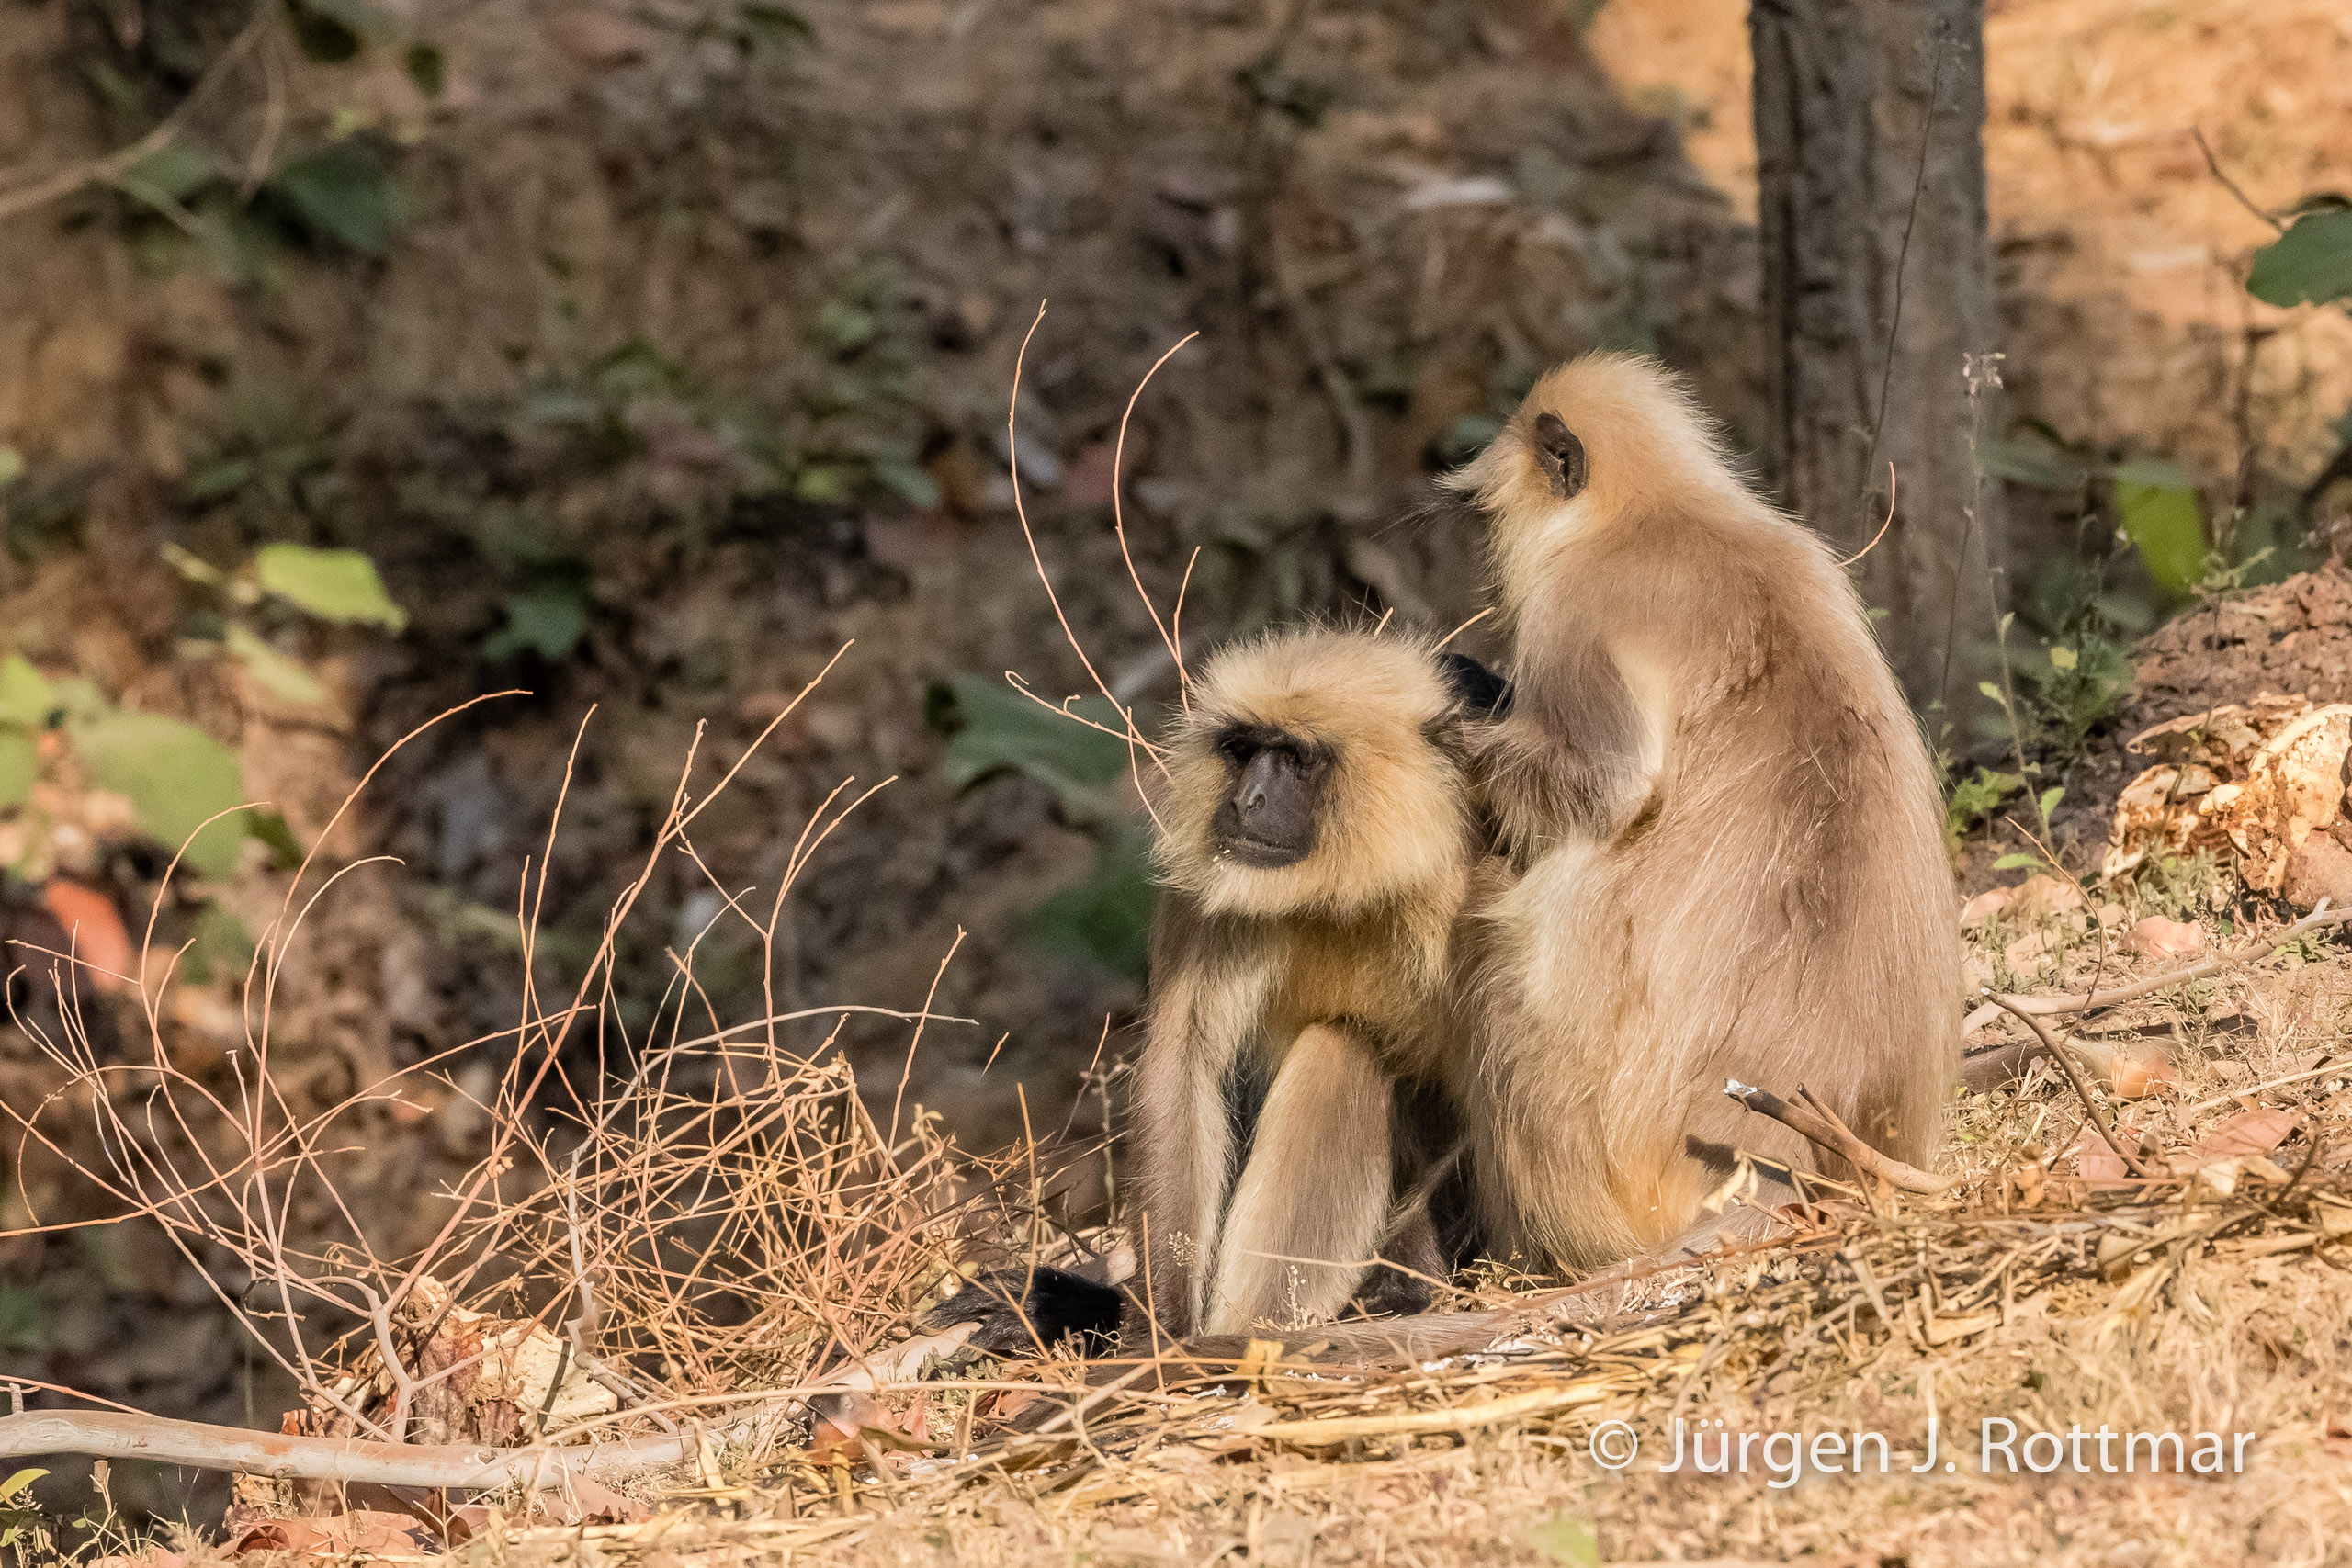monkey: (1381, 341, 2079, 1283), (1052, 597, 1587, 1325)
